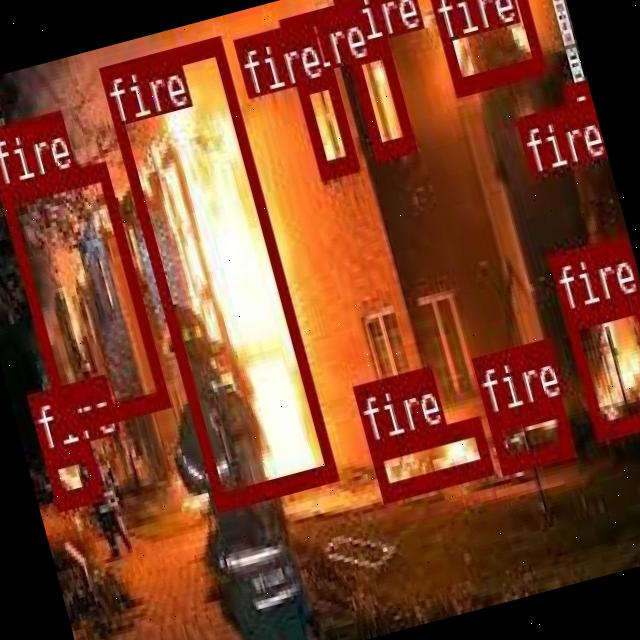fire: (96, 35, 334, 508), (0, 161, 166, 431), (562, 292, 640, 436), (423, 0, 543, 92), (367, 416, 492, 500), (344, 38, 413, 160), (292, 66, 358, 178), (486, 397, 572, 471), (232, 20, 316, 86), (41, 438, 100, 506), (560, 76, 600, 148), (514, 111, 539, 138)
